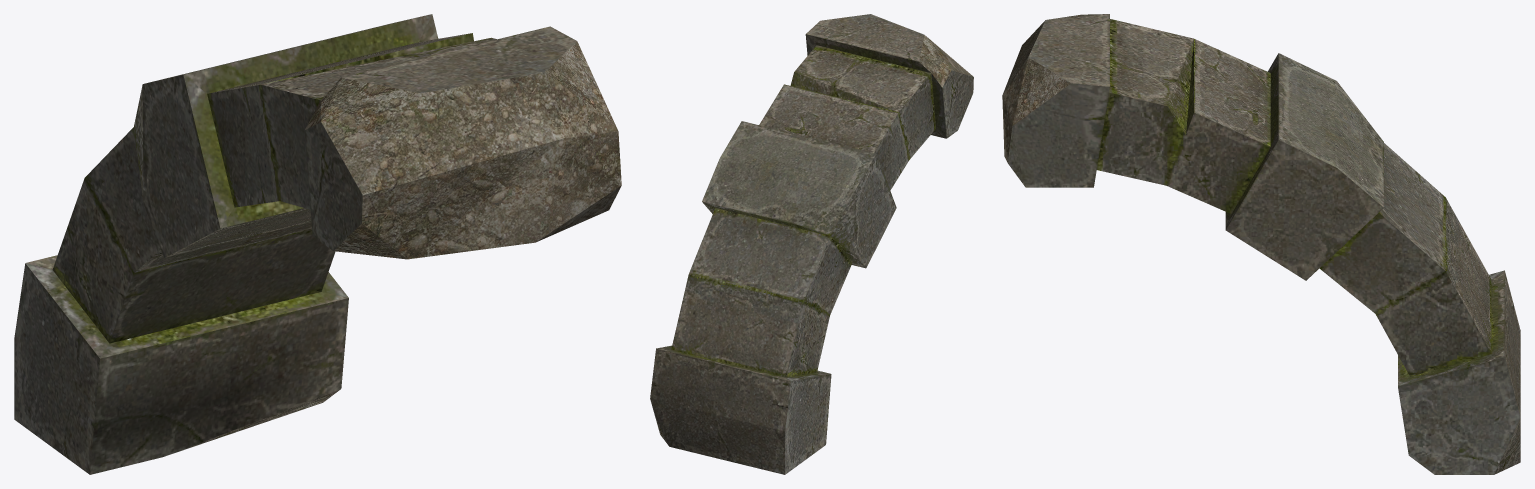
File: bg_lut_lutomb_arch03_sm_old.FBX
3 views of the same model, side by side, from view 1: azimuth 30°, elevation 25°; view 2: azimuth 150°, elevation 25°; view 3: azimuth 270°, elevation 25° (orthographic). The views are drawn at different scales.
Visible parts, largest first — view 1: bg_lut_lutomb_arch03_sm_old; view 2: bg_lut_lutomb_arch03_sm_old; view 3: bg_lut_lutomb_arch03_sm_old.
Boxes of the visible parts, x1=… form: bg_lut_lutomb_arch03_sm_old: x1=14, y1=14, x2=621, y2=474; bg_lut_lutomb_arch03_sm_old: x1=650, y1=14, x2=973, y2=474; bg_lut_lutomb_arch03_sm_old: x1=1002, y1=14, x2=1520, y2=474.
Bounding box in the file's own units: 55.34 × 118 × 140.
